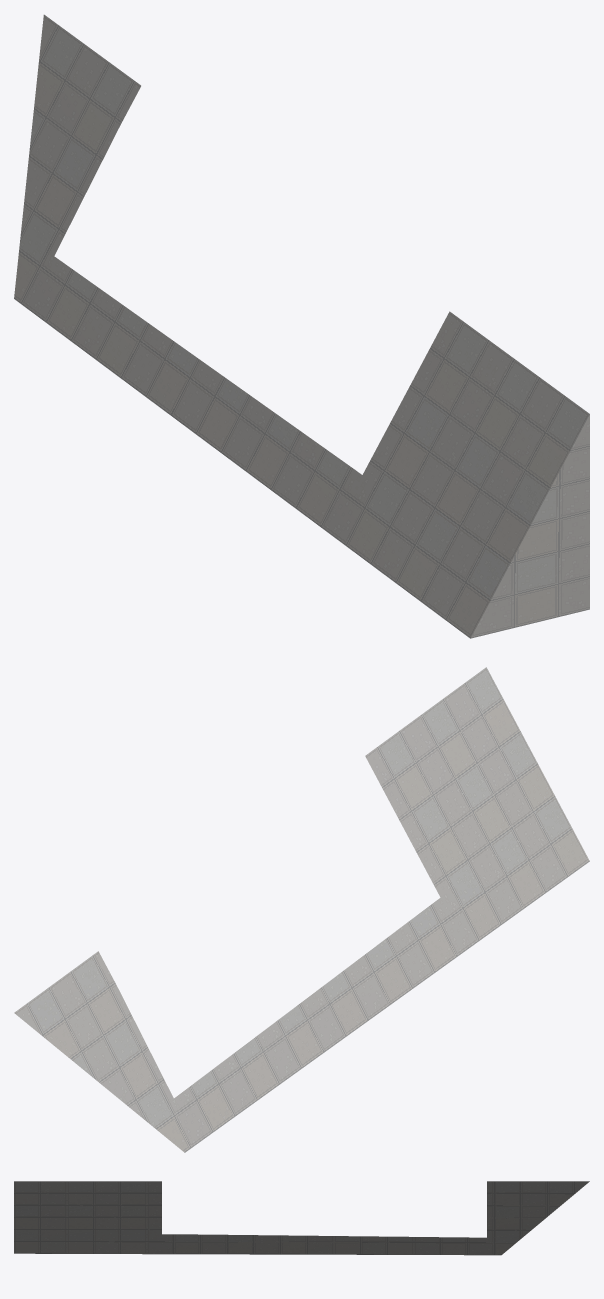
The model's file is kd_stage_135ded_3_16_exterior.glb.
The picture shows the model from 3 angles, top to bottom: view 1: azimuth 30°, elevation 25°; view 2: azimuth 150°, elevation 25°; view 3: azimuth 270°, elevation 25°; orthographic projection. The views are drawn at different scales.
Parts seen in each view (by area): view 1: kd_stage_135ded_3_16_exterior; view 2: kd_stage_135ded_3_16_exterior; view 3: kd_stage_135ded_3_16_exterior.
Boxes of the visible parts, x1=… form: kd_stage_135ded_3_16_exterior: x1=14, y1=14, x2=589, y2=638; kd_stage_135ded_3_16_exterior: x1=14, y1=667, x2=589, y2=1152; kd_stage_135ded_3_16_exterior: x1=14, y1=1181, x2=589, y2=1255.
Bounding box in the file's own units: 1.79 × 2.8 × 14.18.
1 material, 1 textured.
